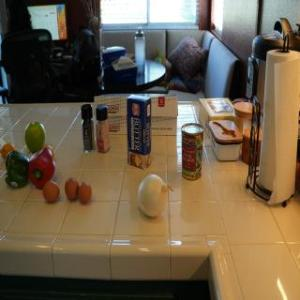bell_pepper: (4, 150, 30, 188), (30, 150, 54, 189)
egg: (43, 182, 60, 202), (79, 180, 91, 204), (66, 176, 78, 200)
onion: (138, 173, 169, 217)
